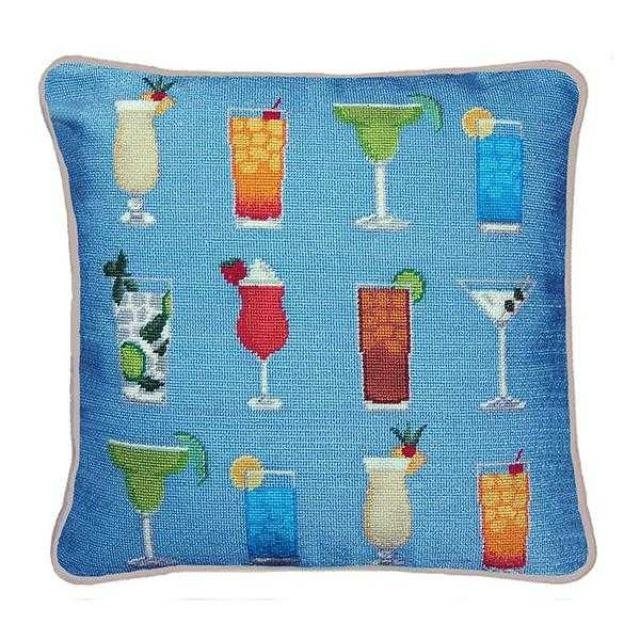pillow: (38, 53, 596, 584)
